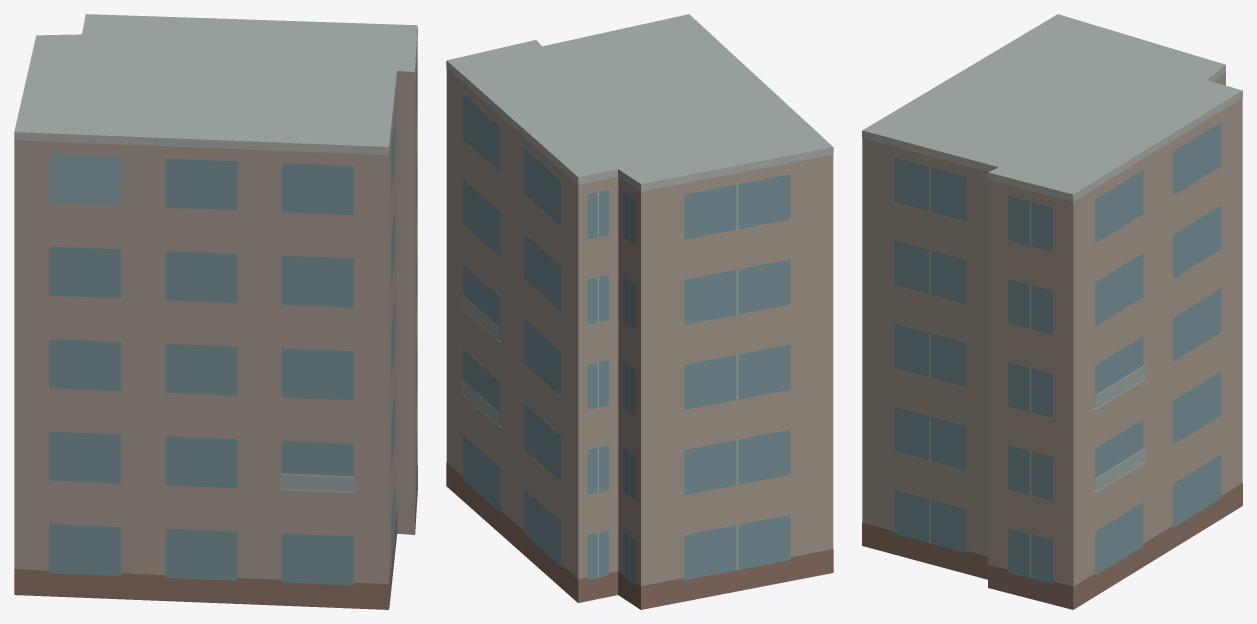
The model's file is survey-upis-32738383.glb.
3 views of the same model, side by side, from view 1: azimuth 30°, elevation 25°; view 2: azimuth 150°, elevation 25°; view 3: azimuth 270°, elevation 25° (orthographic). The views are drawn at different scales.
Visible parts, largest first — view 1: survey-upis-32738383.tmp; view 2: survey-upis-32738383.tmp; view 3: survey-upis-32738383.tmp.
Boxes of the visible parts, x1,y1,x2,y2 form: survey-upis-32738383.tmp: (14, 14, 417, 609); survey-upis-32738383.tmp: (446, 14, 833, 609); survey-upis-32738383.tmp: (862, 14, 1242, 609).
Size of the model in its own units: 12.77 by 13.7 by 11.38.
